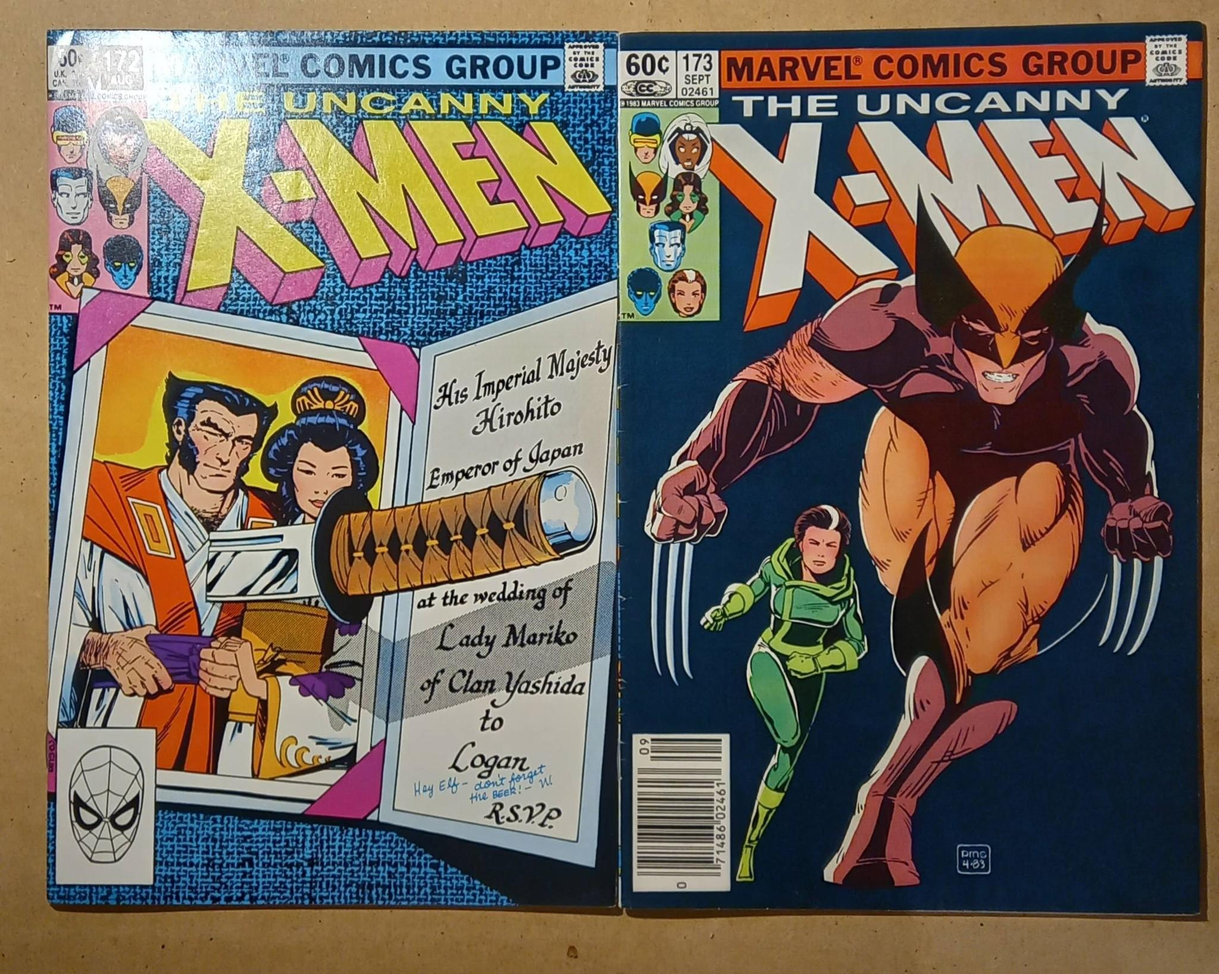comic: (617, 22, 1204, 914), (45, 31, 617, 906)
